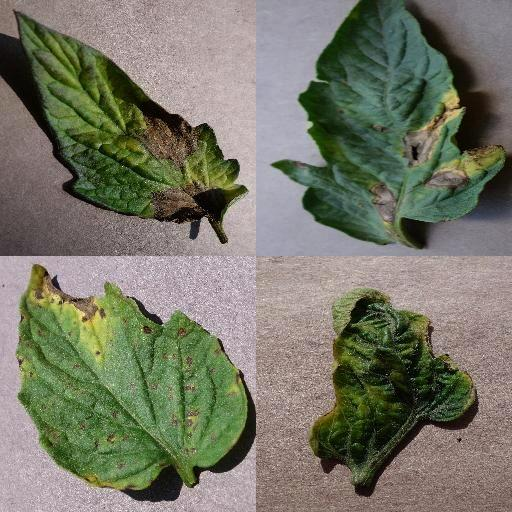Early Blight: (273, 1, 503, 245)
Late Blight: (11, 7, 249, 225)
Septoria: (19, 263, 248, 491)
Yellow Leaf Curl Virus: (308, 290, 476, 468)
